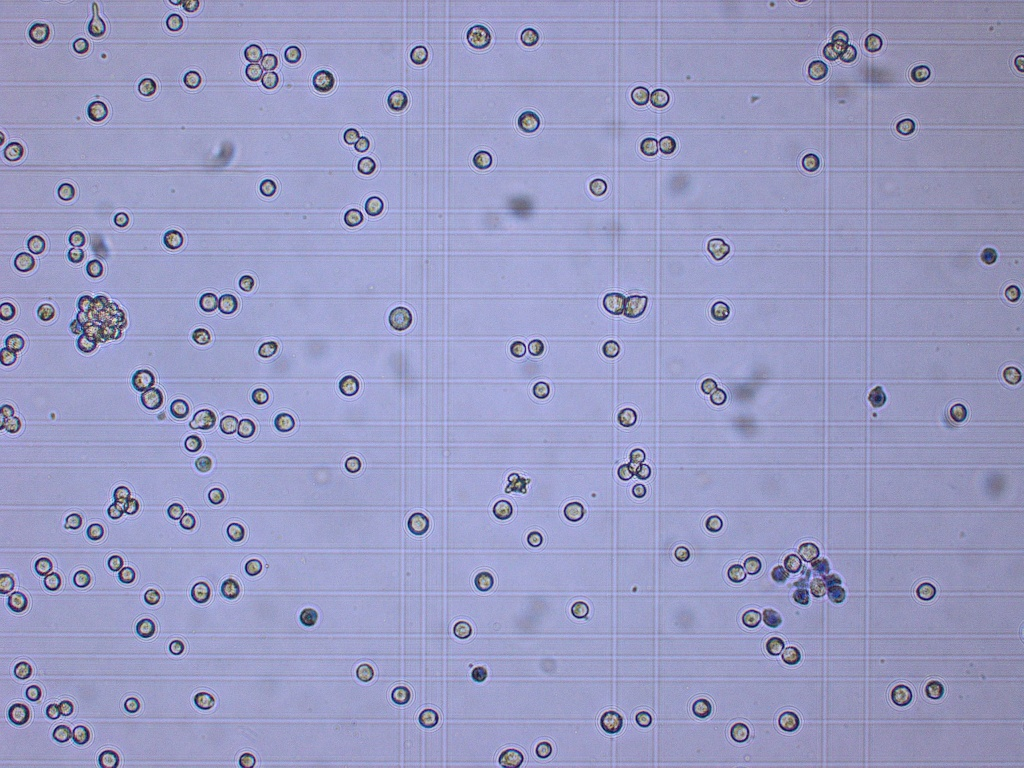Aggregate: (70, 293, 126, 353), (823, 29, 856, 64), (108, 486, 139, 520)
dead: (869, 386, 886, 407), (300, 608, 318, 627), (764, 608, 780, 627), (828, 584, 844, 603), (772, 565, 790, 581), (980, 247, 996, 265), (195, 456, 212, 472), (794, 587, 809, 605), (473, 664, 486, 681)
live: (387, 305, 413, 330), (466, 23, 491, 48), (708, 236, 730, 261), (601, 709, 623, 734), (312, 70, 334, 93), (142, 387, 164, 409), (891, 684, 913, 706), (625, 294, 647, 316), (132, 368, 153, 391), (191, 580, 211, 604), (500, 748, 524, 768), (8, 590, 29, 612), (9, 702, 30, 724), (408, 513, 428, 536), (603, 292, 626, 312), (799, 540, 820, 561), (808, 60, 828, 82), (86, 101, 108, 121), (3, 142, 24, 162), (339, 375, 359, 396), (474, 571, 495, 591), (492, 499, 512, 520), (778, 711, 799, 731), (30, 23, 49, 45), (417, 709, 439, 728), (226, 521, 246, 541), (618, 408, 638, 428), (518, 112, 539, 131), (194, 691, 216, 709), (801, 152, 820, 172), (631, 85, 650, 105), (473, 151, 493, 170), (388, 91, 407, 111), (199, 292, 218, 312), (221, 293, 240, 313), (564, 501, 583, 521), (731, 722, 750, 742), (601, 340, 621, 359), (926, 679, 944, 700), (410, 43, 427, 65), (589, 178, 608, 197), (364, 195, 383, 214), (14, 252, 33, 271), (171, 398, 190, 417), (137, 618, 156, 637), (99, 749, 118, 768), (896, 119, 916, 137), (163, 230, 183, 248), (916, 581, 936, 599), (744, 555, 761, 576), (2, 345, 18, 367), (659, 135, 677, 154), (640, 137, 659, 155), (711, 302, 730, 320), (521, 26, 540, 44), (183, 70, 202, 88), (276, 413, 294, 432), (27, 235, 46, 253), (693, 698, 712, 716), (728, 563, 747, 581), (781, 553, 800, 571), (343, 209, 363, 226), (191, 327, 211, 344), (221, 579, 238, 599), (742, 610, 762, 627), (284, 46, 302, 64), (166, 13, 184, 31), (261, 71, 279, 89), (34, 556, 52, 574), (705, 515, 723, 533), (652, 88, 669, 107), (244, 44, 263, 61), (54, 725, 73, 742), (391, 686, 410, 703), (951, 402, 967, 422), (139, 76, 155, 96), (73, 725, 89, 745), (767, 635, 783, 655), (1, 300, 16, 321), (1004, 366, 1021, 384), (864, 33, 881, 51), (245, 64, 263, 81), (358, 156, 376, 173), (74, 571, 92, 588), (356, 664, 374, 681), (910, 66, 929, 82), (251, 388, 270, 404), (184, 435, 203, 451), (239, 752, 258, 768), (784, 646, 800, 665), (65, 512, 84, 528), (221, 415, 236, 435), (259, 180, 276, 197), (86, 259, 103, 276), (629, 447, 646, 464), (113, 211, 129, 229), (6, 333, 24, 349), (87, 522, 105, 538), (454, 622, 472, 638), (259, 342, 279, 356), (262, 53, 278, 70), (74, 37, 90, 54), (38, 304, 55, 320), (239, 419, 255, 436), (345, 455, 361, 472), (43, 574, 60, 590), (15, 661, 32, 677), (527, 339, 544, 355), (244, 559, 262, 574), (46, 702, 61, 720), (573, 600, 588, 618), (533, 380, 548, 398), (673, 546, 689, 562), (711, 388, 727, 404), (1004, 286, 1021, 301), (59, 184, 76, 199), (68, 231, 85, 246), (180, 512, 195, 529), (636, 711, 653, 726), (69, 248, 85, 263), (119, 567, 134, 583), (2, 572, 14, 592), (527, 531, 542, 547), (536, 742, 551, 758), (108, 554, 125, 568), (125, 697, 139, 714), (617, 464, 631, 481), (167, 502, 182, 517), (637, 464, 652, 479), (170, 640, 184, 656), (511, 341, 525, 357), (27, 683, 40, 700), (59, 699, 72, 716), (240, 275, 255, 289), (208, 488, 224, 501), (355, 136, 369, 149), (144, 590, 159, 602), (344, 129, 356, 143), (632, 483, 644, 497)
